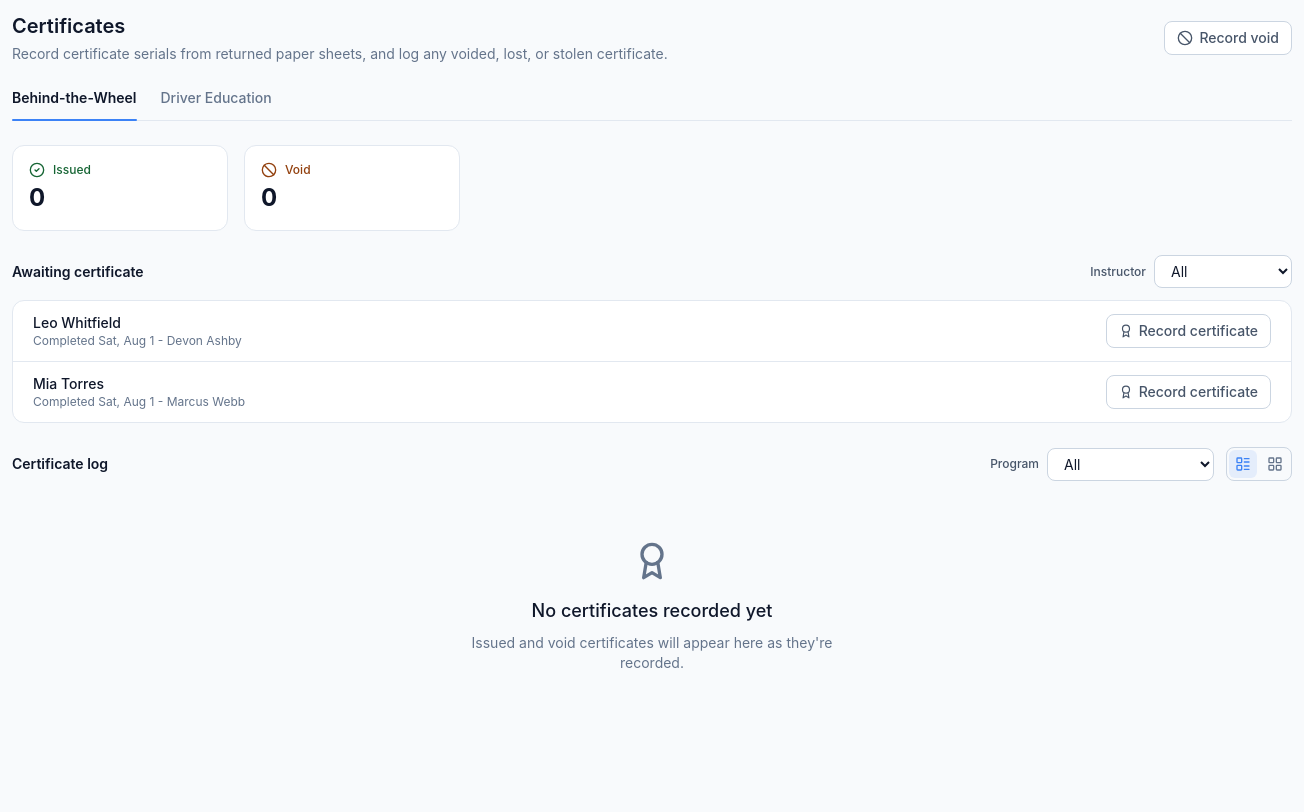
Scenario: Certificates - worklist instructor filter › narrows to one instructor's awaiting students when selected, and shows an active-filter indicator
This screenshot has width=1304, height=812.
Expected: the text "Leo Whitfield" is shown, [33, 314, 121, 331]
Select "Marcus Webb" in the dropdown labelled "Instructor": [1223, 272] box [1154, 255, 1292, 288]
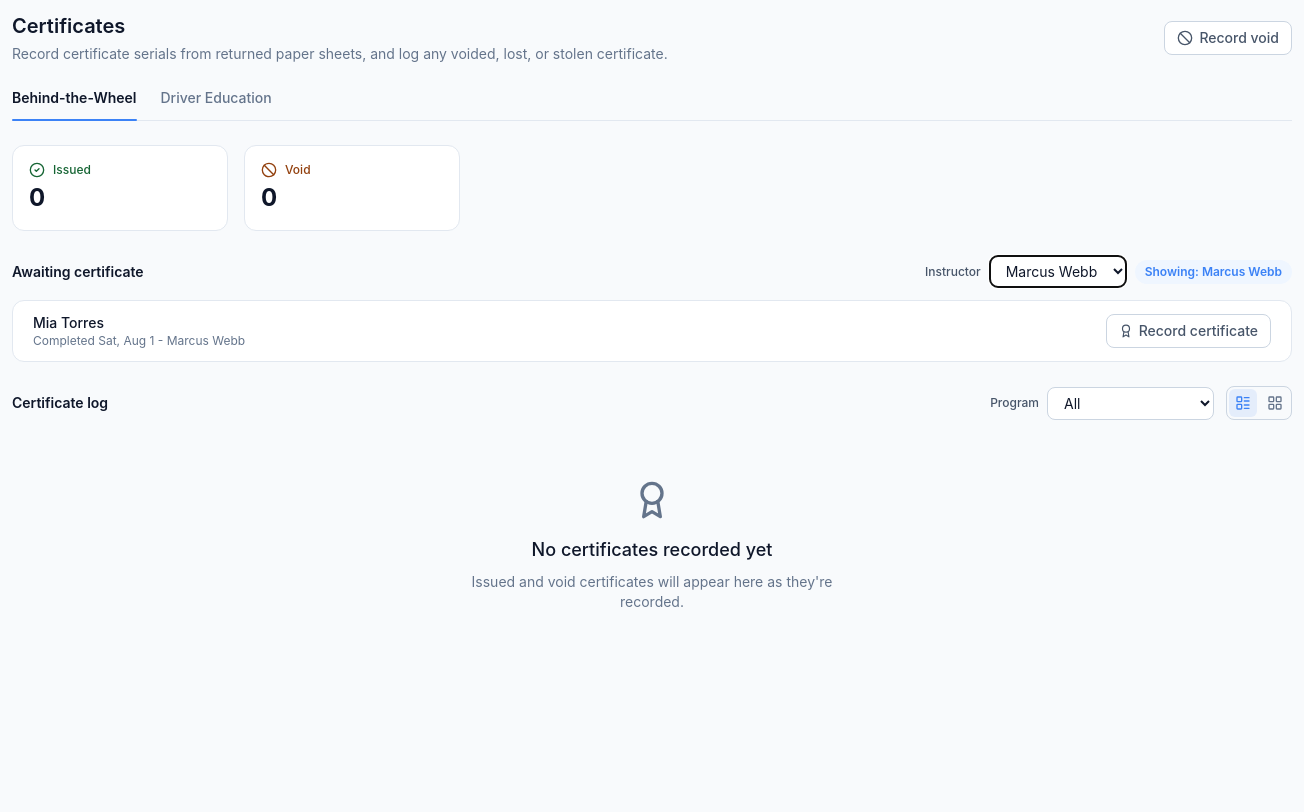
Expected: the text "Mia Torres" is shown, [33, 314, 104, 331]
Now the button "Leo Whitfield" is gone
Now the text "Showing: Marcus Webb" is shown, box [1135, 260, 1292, 284]
